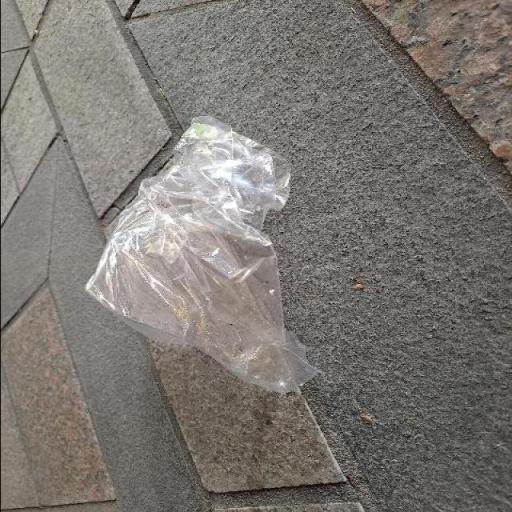plastic-bag: (83, 114, 321, 397)
